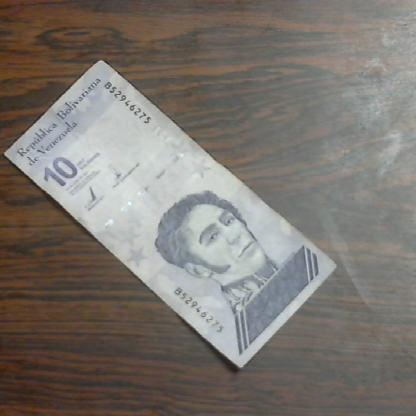ten-front-vef: (2, 58, 340, 370)
